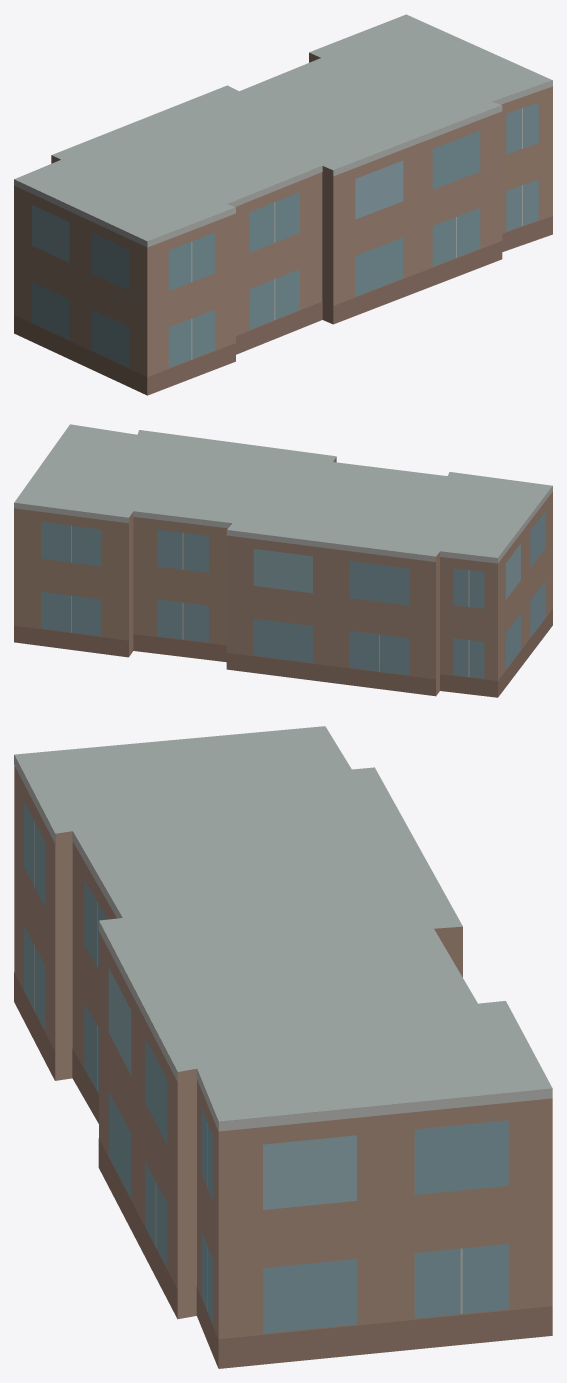
The model's file is survey-upis-32794989.glb.
3 renders of one model, top to bottom at view 1: azimuth 30°, elevation 25°; view 2: azimuth 150°, elevation 25°; view 3: azimuth 270°, elevation 25°, orthographic. The views are drawn at different scales.
Visible parts, largest first — view 1: survey-upis-32794989.tmp; view 2: survey-upis-32794989.tmp; view 3: survey-upis-32794989.tmp.
Boxes of the visible parts, x1=… form: survey-upis-32794989.tmp: x1=14, y1=14, x2=552, y2=395; survey-upis-32794989.tmp: x1=14, y1=424, x2=552, y2=697; survey-upis-32794989.tmp: x1=14, y1=726, x2=552, y2=1368.
Size of the model in its own units: 20.95 by 6.1 by 12.06.
